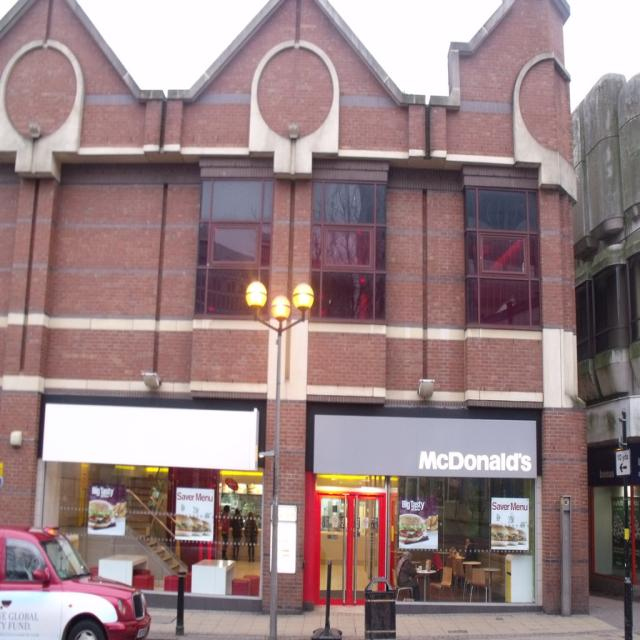car: (4, 531, 134, 636)
